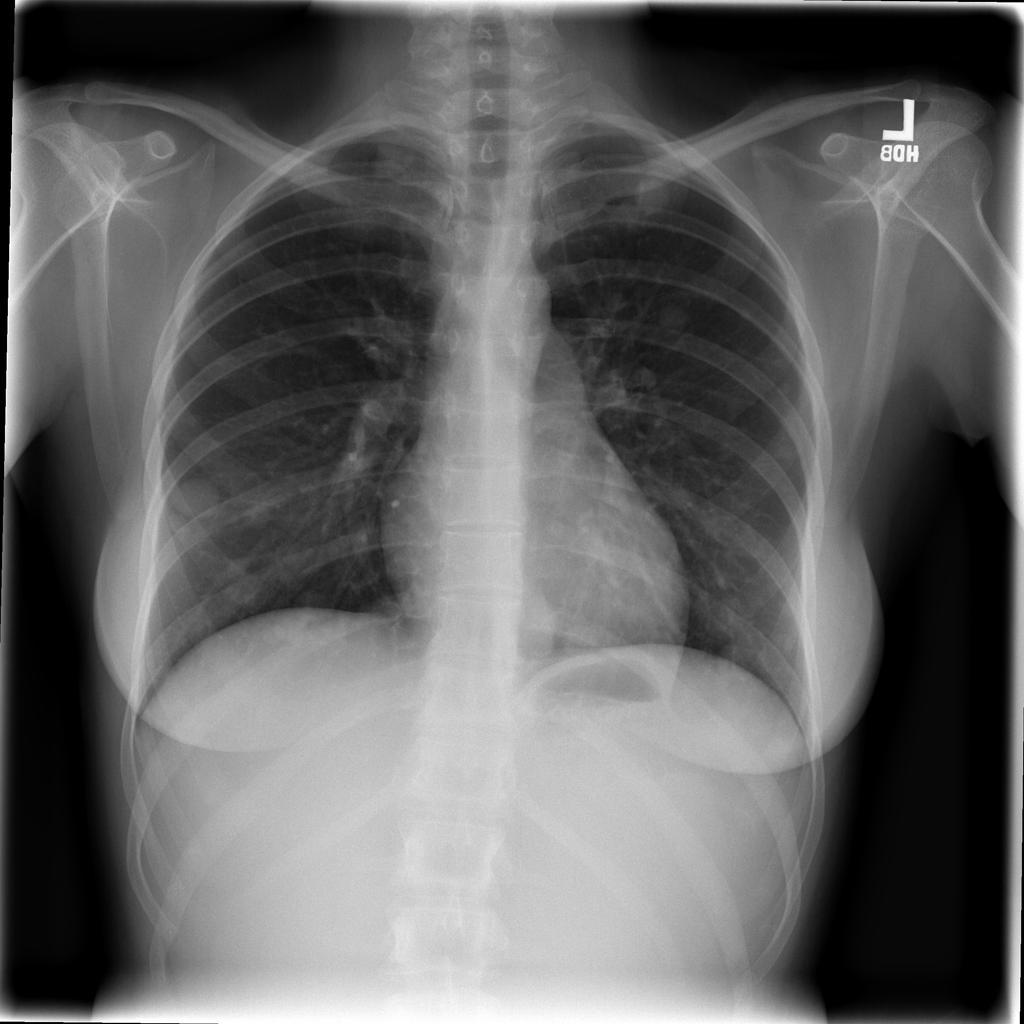nodule: (157, 467, 237, 534), (271, 565, 347, 635), (612, 160, 688, 229), (647, 295, 701, 344), (232, 486, 283, 535)
